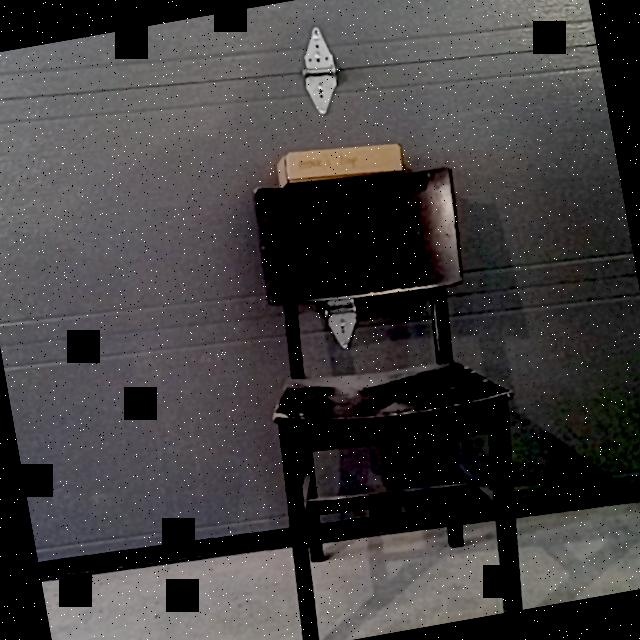box: (282, 137, 402, 185)
